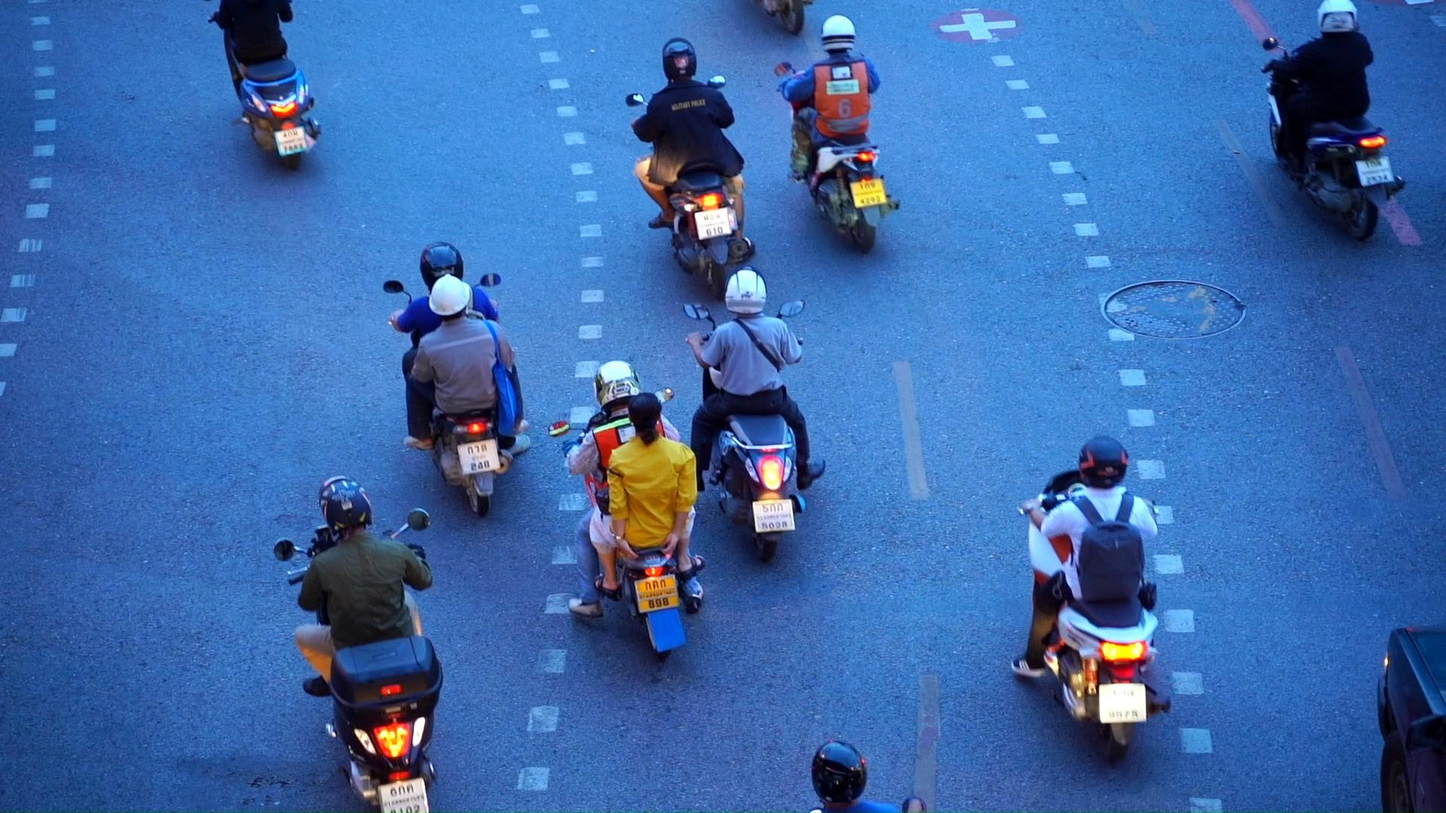driver: (273, 475, 444, 813), (1011, 434, 1170, 763), (548, 361, 708, 661), (683, 266, 826, 563), (383, 242, 533, 518), (1259, 0, 1407, 240), (624, 37, 755, 301), (773, 14, 901, 256), (207, 0, 323, 171)
helmet: (811, 740, 867, 804), (319, 475, 372, 537), (1078, 434, 1128, 489), (593, 361, 641, 414), (420, 242, 463, 295), (724, 266, 767, 315), (429, 274, 470, 322), (662, 37, 697, 85), (1317, 0, 1359, 34), (821, 14, 856, 51)
no-helmet: (628, 393, 662, 446)
